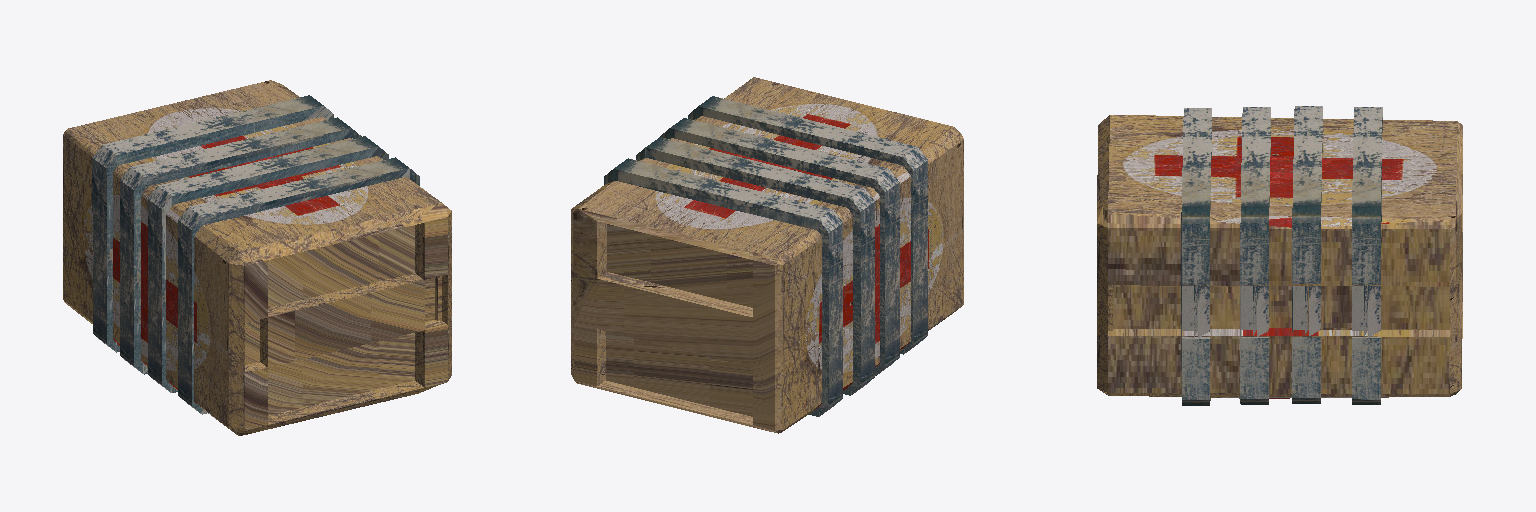
3 views of the same model, side by side, from view 1: azimuth 30°, elevation 25°; view 2: azimuth 150°, elevation 25°; view 3: azimuth 270°, elevation 25° (orthographic).
Visible parts, largest first — view 1: municion_1:polySurface1031, municion_1:group1; view 2: municion_1:polySurface1031, municion_1:group1; view 3: municion_1:polySurface1031, municion_1:group1.
Part boxes in pixels (x1,y1,x2,y2): municion_1:polySurface1031: (63, 80, 451, 435); municion_1:group1: (92, 95, 419, 414); municion_1:polySurface1031: (571, 77, 963, 433); municion_1:group1: (604, 96, 927, 416); municion_1:polySurface1031: (1097, 115, 1462, 398); municion_1:group1: (1181, 106, 1382, 405).
Bounding box in the file's own units: 3.27 × 2.69 × 4.53.
Materials: 3 (2 with a texture image).